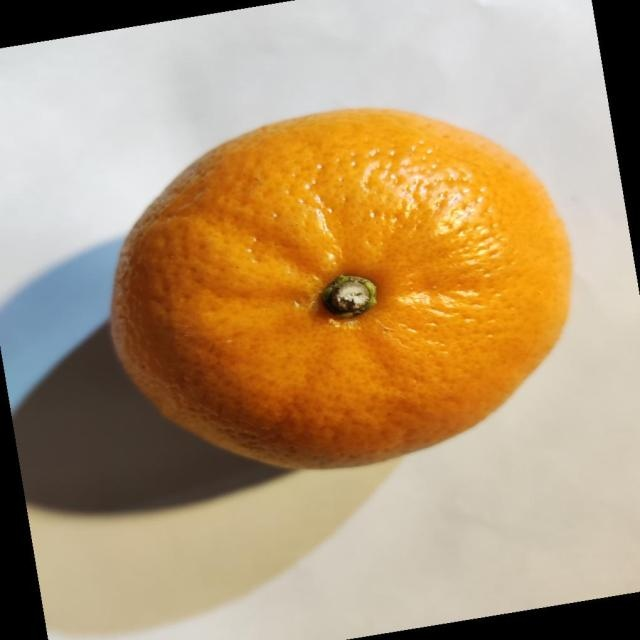agrume: (108, 105, 573, 471)
